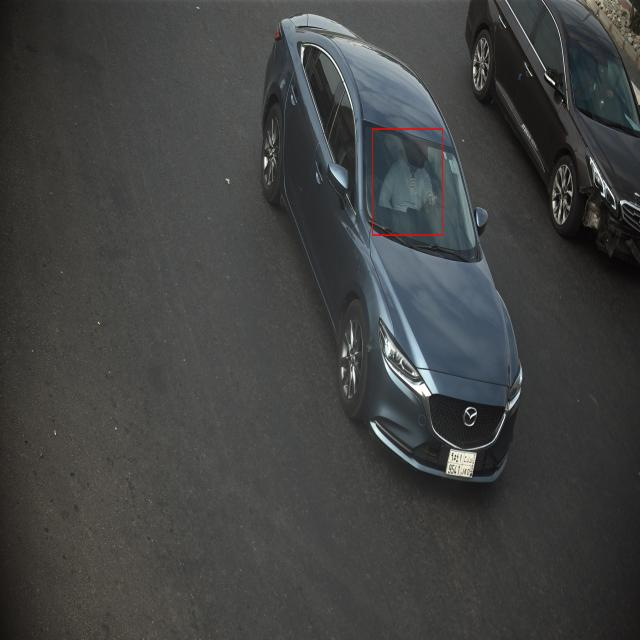windshield: (360, 114, 483, 268), (564, 30, 638, 143)
